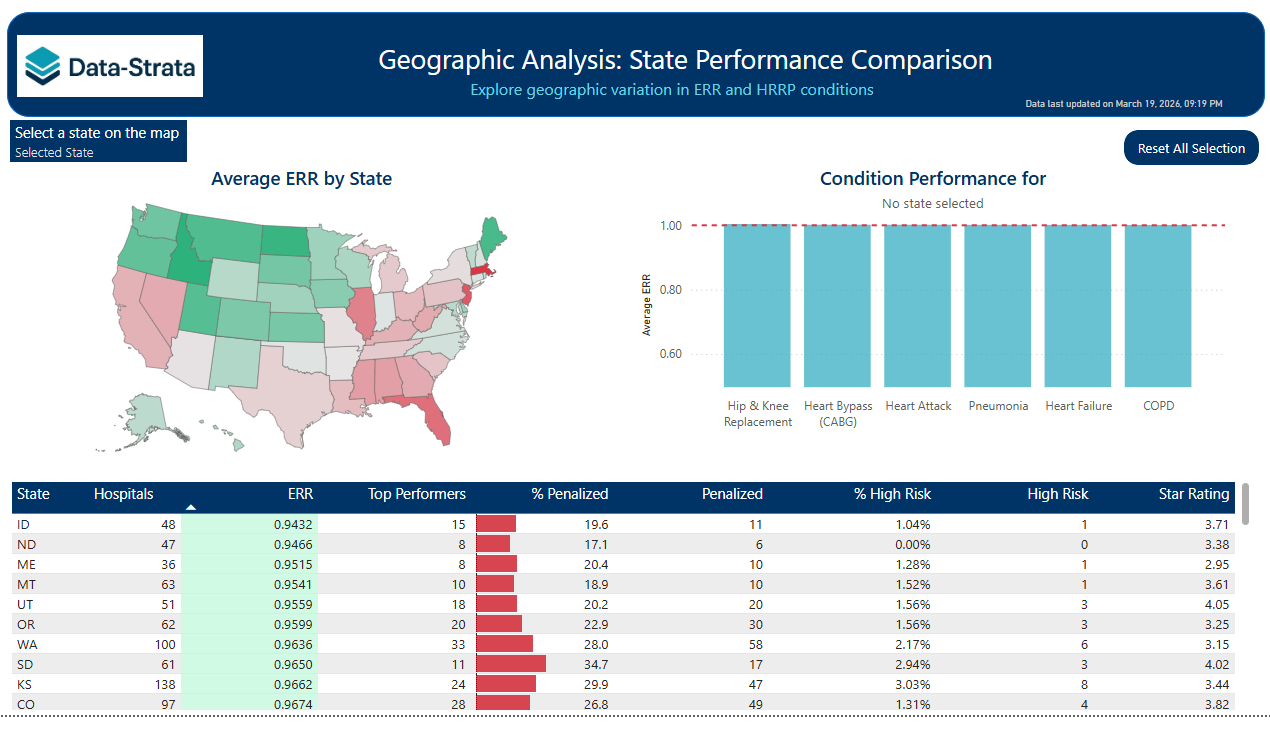

The dashboard page shown, as its layout file describes it:
{"tool":"powerbi","page":{"name":"Geographic Analysis","canvas":[1280,720],"ordinal":2},"visuals":[{"type":"group","id":"g1","title":"Group 2","box":[11,0,1258.3,141.8],"z":0},{"type":"group","id":"g2","title":"Group 1","box":[11,0,1258.3,141.8],"z":0,"group":"g1"},{"type":"shape","box":[11,17.1,1258.3,105.2],"z":0,"group":"g2"},{"type":"textbox","box":[360.8,40.2,656.9,57.8],"z":1000},{"type":"textbox","box":[412.7,78.4,526.5,43.1],"z":2000},{"type":"shapeMap","title":"Average ERR by State","fields":{"Category":["vw_state_performance.state"],"Value":["Avg(vw_state_performance.avg_err)"]},"box":[9.9,170.1,590.1,301.8],"z":3000},{"type":"clusteredColumnChart","title":"Condition Performance for","fields":{"Category":["vw_top_bottom_performers.condition_short"],"Y":["Avg(vw_top_bottom_performers.err)"]},"box":[640.3,170.1,593.7,270.4],"z":4000},{"type":"tableEx","fields":{"Values":["vw_state_performance.state","vw_state_performance.total_hospitals","vw_state_performance.avg_err","vw_state_performance.top_performer_measures","vw_state_performance.pct_penalized","vw_state_performance.penalized_measures","_Measures.Pct High Risk","vw_state_performance.high_risk_measures","vw_state_performance.avg_star_rating"]},"box":[9.9,481.8,1249.3,238.2],"z":5000},{"type":"cardVisual","fields":{"Data":["_Measures.Selected State"]},"box":[10.7,121.8,183.6,48.4],"z":6000},{"type":"image","box":[20.8,0,185.9,141.8],"z":7000,"group":"g2"},{"type":"actionButton","title":"Reset ","box":[1128.4,135.2,134.3,34.9],"z":7000},{"type":"card","fields":{"Values":["_Measures.Last Refresh"]},"box":[996.7,99.4,262.4,22.4],"z":15000,"group":"g1"}]}

Visuals, with their boxes in screenshot pixels (x1, y1, x2, y2), scaled from the page's 1280x720 canvas onto the 1270x735 screenshot:
"Group 2" group: detection(11, 0, 1259, 145)
"Group 1" group: detection(11, 0, 1259, 145)
shape: detection(11, 17, 1259, 125)
textbox: detection(358, 41, 1010, 100)
textbox: detection(409, 80, 932, 124)
"Average ERR by State" shapeMap: detection(10, 174, 595, 482)
"Condition Performance for" clusteredColumnChart: detection(635, 174, 1224, 450)
tableEx - vw_state_performance.state x vw_state_performance.total_hospitals: detection(10, 492, 1249, 734)
cardVisual - _Measures.Selected State: detection(11, 124, 193, 174)
image: detection(21, 0, 205, 145)
"Reset " actionButton: detection(1120, 138, 1253, 174)
card - _Measures.Last Refresh: detection(989, 101, 1249, 124)
